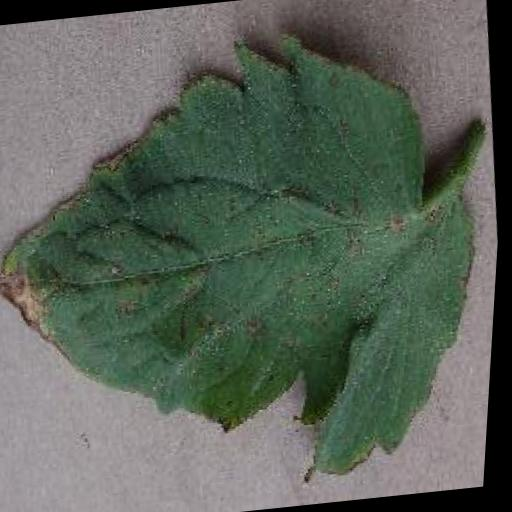Bacterial Spot: (0, 1, 512, 512)
